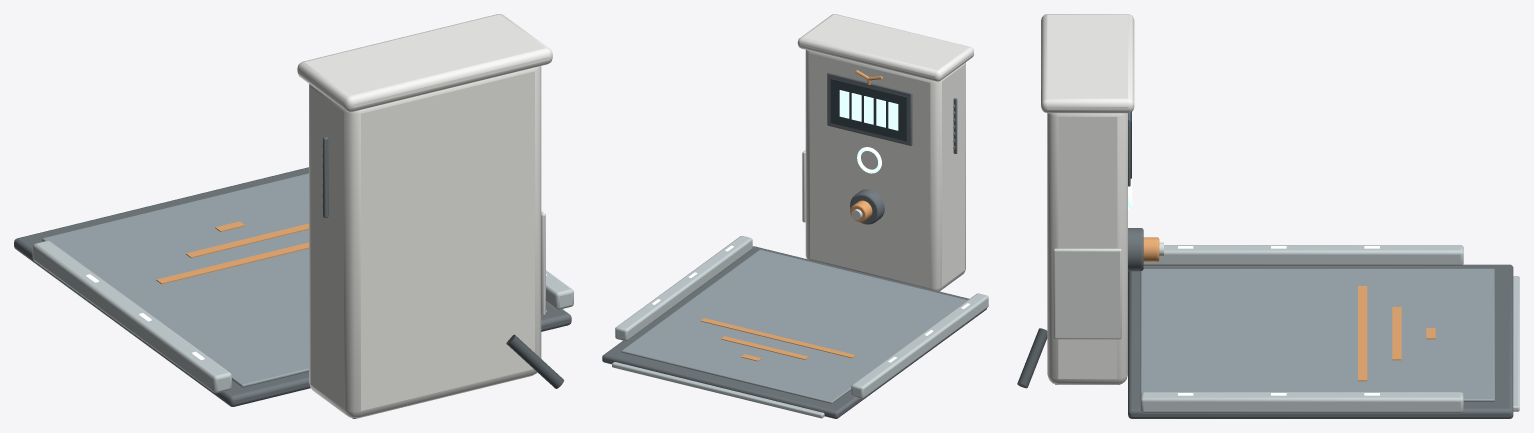
The model's file is rover_charger.glb.
3 renders of one model, left to right at view 1: azimuth 30°, elevation 25°; view 2: azimuth 150°, elevation 25°; view 3: azimuth 270°, elevation 25°, orthographic. The views are drawn at different scales.
Parts seen in each view (by area): view 1: pylon_rover_white, pad_deck_slate_panel, pylon_cap_white_painted, guide_rails_alloy, pad_graphite, chevrons_orange, cable_black_rubber, service_hatch_warm_panel, side_vent; view 2: pylon_rover_white, pad_deck_slate_panel, pylon_cap_white_painted, guide_rails_alloy, pad_graphite, screen_dark_glass, ramp_lip_alloy, battery_bars_screen_green, screen_frame_graphite, chevrons_orange, plug_housing_graphite; view 3: pad_deck_slate_panel, pylon_rover_white, guide_rails_alloy, pylon_cap_white_painted, pad_graphite, service_hatch_warm_panel, chevrons_orange, ramp_lip_alloy, cable_black_rubber, plug_housing_graphite.
Part boxes in pixels (x1=…): pylon_rover_white: x1=309, y1=66, x2=541, y2=418; pad_deck_slate_panel: x1=42, y1=173, x2=547, y2=387; pylon_cap_white_painted: x1=297, y1=14, x2=552, y2=111; guide_rails_alloy: x1=32, y1=240, x2=573, y2=393; pad_graphite: x1=14, y1=167, x2=571, y2=406; chevrons_orange: x1=156, y1=221, x2=308, y2=284; cable_black_rubber: x1=506, y1=334, x2=564, y2=388; service_hatch_warm_panel: x1=541, y1=211, x2=545, y2=315; side_vent: x1=322, y1=137, x2=328, y2=217; pylon_rover_white: x1=805, y1=50, x2=965, y2=291; pad_deck_slate_panel: x1=621, y1=249, x2=967, y2=403; pylon_cap_white_painted: x1=797, y1=14, x2=973, y2=81; guide_rails_alloy: x1=615, y1=236, x2=988, y2=398; pad_graphite: x1=602, y1=246, x2=986, y2=418; screen_dark_glass: x1=830, y1=78, x2=906, y2=141; ramp_lip_alloy: x1=612, y1=362, x2=824, y2=418; battery_bars_screen_green: x1=839, y1=90, x2=898, y2=130; screen_frame_graphite: x1=827, y1=72, x2=912, y2=145; chevrons_orange: x1=700, y1=318, x2=855, y2=361; plug_housing_graphite: x1=850, y1=189, x2=884, y2=224; pad_deck_slate_panel: x1=1140, y1=268, x2=1494, y2=401; pylon_rover_white: x1=1047, y1=113, x2=1127, y2=384; guide_rails_alloy: x1=1140, y1=245, x2=1463, y2=413; pylon_cap_white_painted: x1=1041, y1=14, x2=1134, y2=113; pad_graphite: x1=1128, y1=264, x2=1513, y2=418; service_hatch_warm_panel: x1=1053, y1=248, x2=1121, y2=339; chevrons_orange: x1=1358, y1=286, x2=1435, y2=381; ramp_lip_alloy: x1=1513, y1=276, x2=1519, y2=411; cable_black_rubber: x1=1017, y1=328, x2=1047, y2=388; plug_housing_graphite: x1=1128, y1=228, x2=1143, y2=271.
Size of what is drawn, in the model's own units: 1.18 by 1.03 by 1.62.
